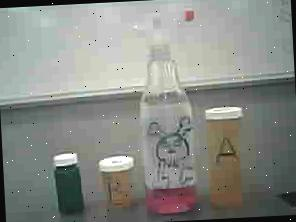Bottle A: (204, 103, 256, 210)
Bottle B: (96, 154, 136, 211)
Bottle C: (52, 150, 90, 219)
hazard: (130, 4, 208, 216)
